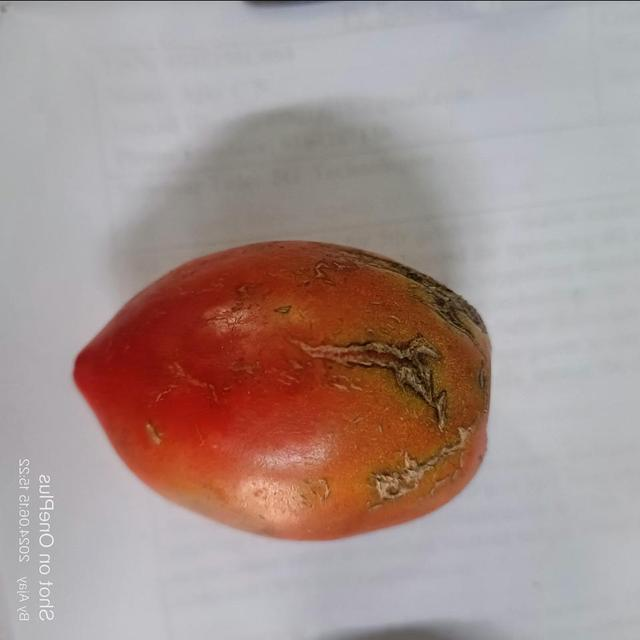Cracking Fruit: (213, 217, 269, 329)
